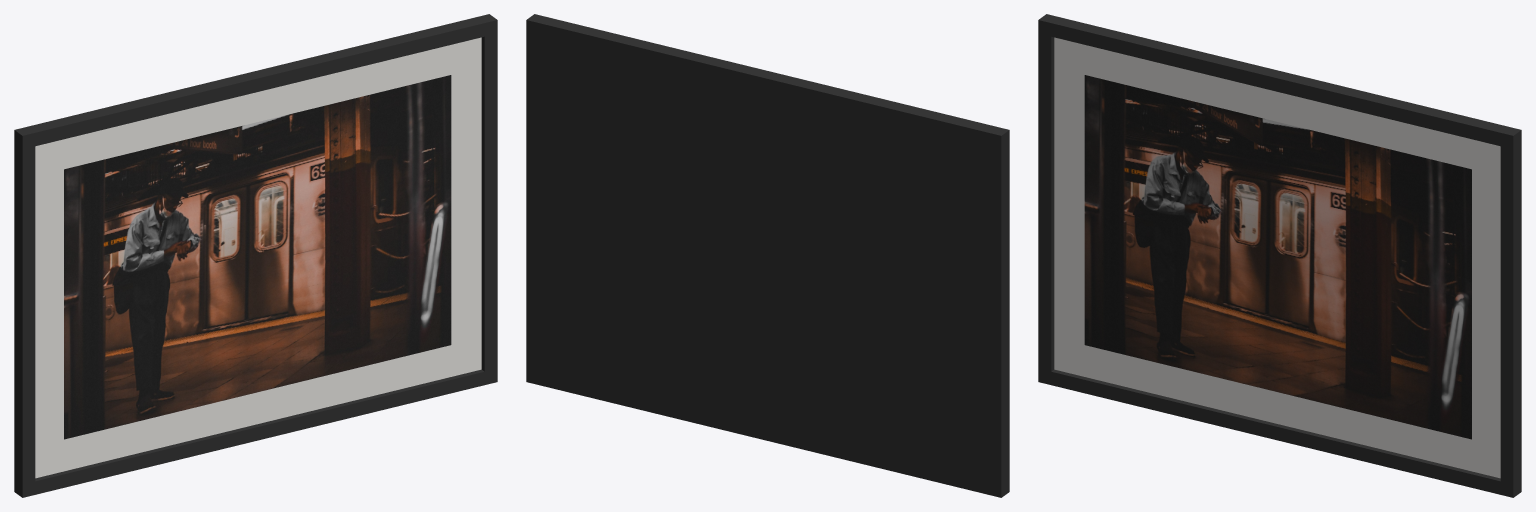
The model's file is vantan-60.gltf.
The picture shows the model from 3 angles, left to right: view 1: azimuth 30°, elevation 25°; view 2: azimuth 150°, elevation 25°; view 3: azimuth 330°, elevation 25°; orthographic projection.
Visible parts, largest first — view 1: tavla; view 2: tavla; view 3: tavla.
Part boxes in pixels (<box>): tavla: <box>14,14,497,497</box>; tavla: <box>526,14,1009,497</box>; tavla: <box>1038,14,1521,497</box>.
Size of the model in its own units: 0.736 by 0.536 by 0.022.
3 materials, 1 textured.
